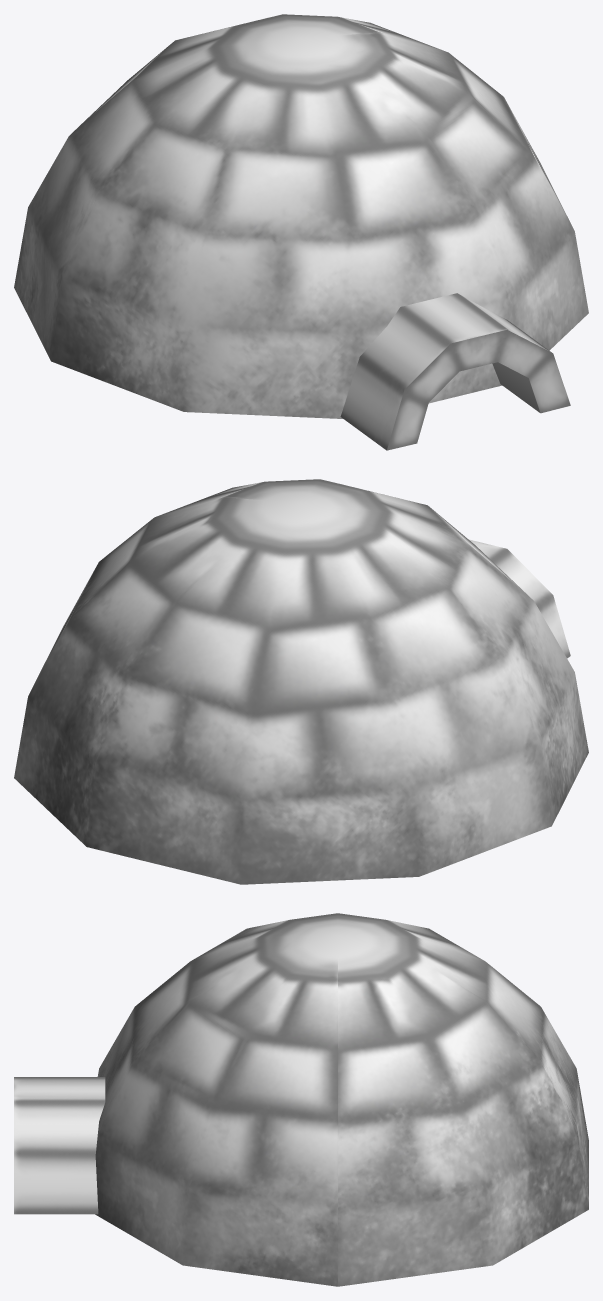
The model's file is ms_Igloo01.fbx.
The picture shows the model from 3 angles, top to bottom: view 1: azimuth 30°, elevation 25°; view 2: azimuth 150°, elevation 25°; view 3: azimuth 270°, elevation 25°; orthographic projection. The views are drawn at different scales.
Parts seen in each view (by area): view 1: polySurface5; view 2: polySurface5; view 3: polySurface5.
Boxes of the visible parts, bbox=[...] form: polySurface5: bbox=[14, 14, 588, 450]; polySurface5: bbox=[14, 479, 588, 884]; polySurface5: bbox=[14, 913, 588, 1286].
Size of the model in its own units: 246 by 123 by 268.
